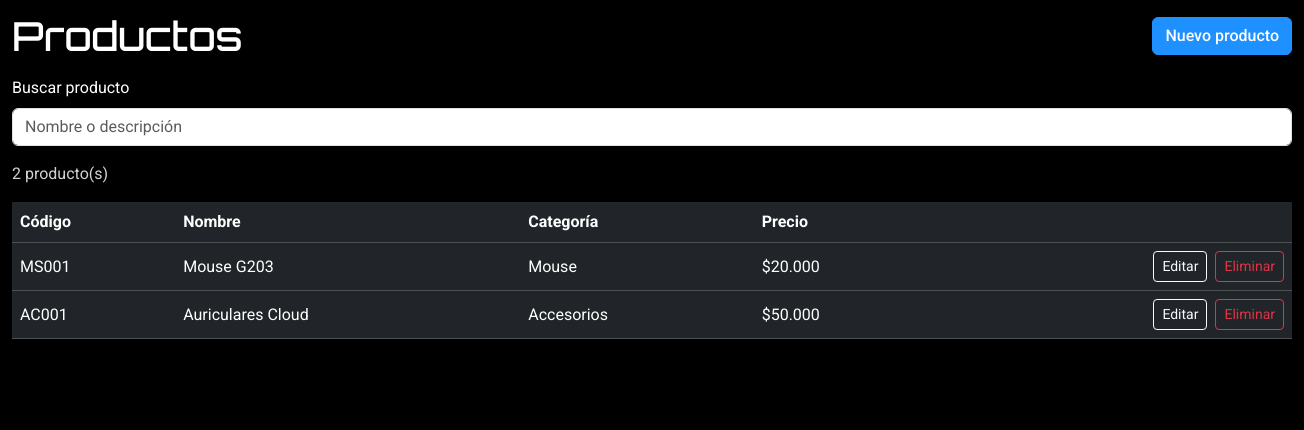
it: AdminProductosView › elimina el producto cuando se confirma
The image size is (1304, 430).
Click the button with aria-label "Eliminar Mouse G203". click: point(1250, 266)
box: [1216,251,1284,282]
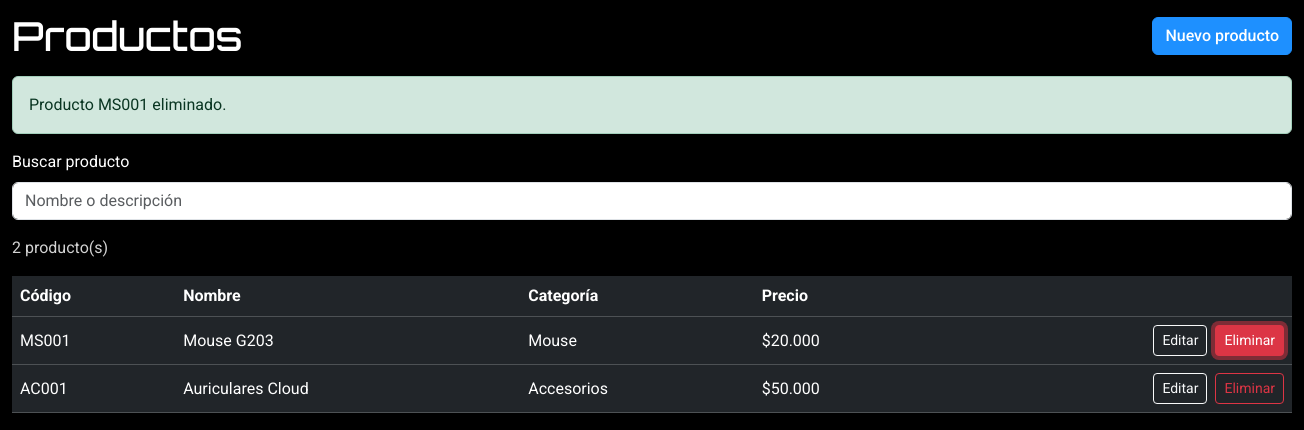
Result: the message reads "Producto MS001 eliminado." at [29,95,226,114]
